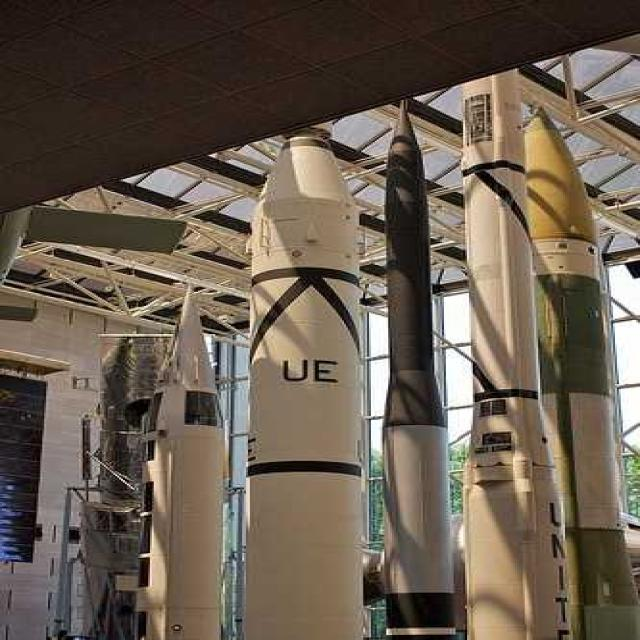missile: (241, 123, 380, 640), (448, 69, 570, 640), (515, 102, 640, 638), (382, 97, 477, 640), (135, 274, 234, 640)
